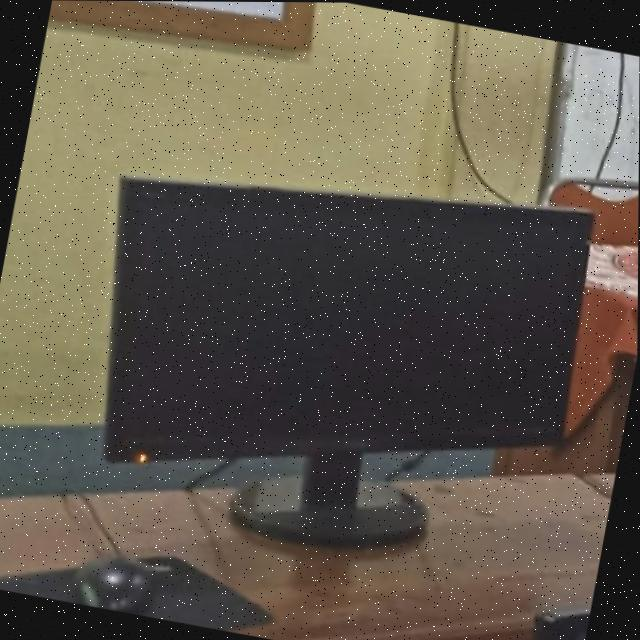offscreen: (104, 177, 592, 460)
